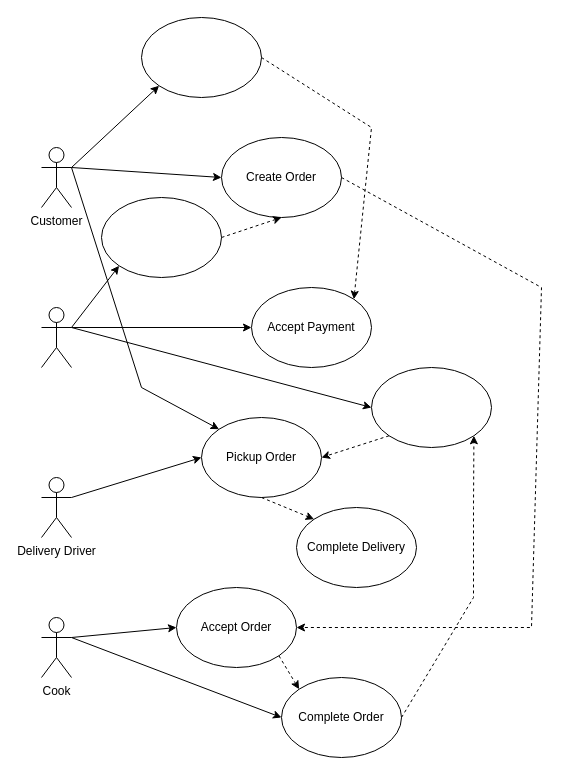
The diagram is 567 pixels wide and 775 high, and some of its shapes have lost their labels. Each missing label, with the box of its shape:
Distribute Order: (370, 366, 492, 448)
Employee: (40, 306, 72, 368)
Pay Ticket: (140, 16, 262, 98)
Take Order: (100, 196, 222, 278)
